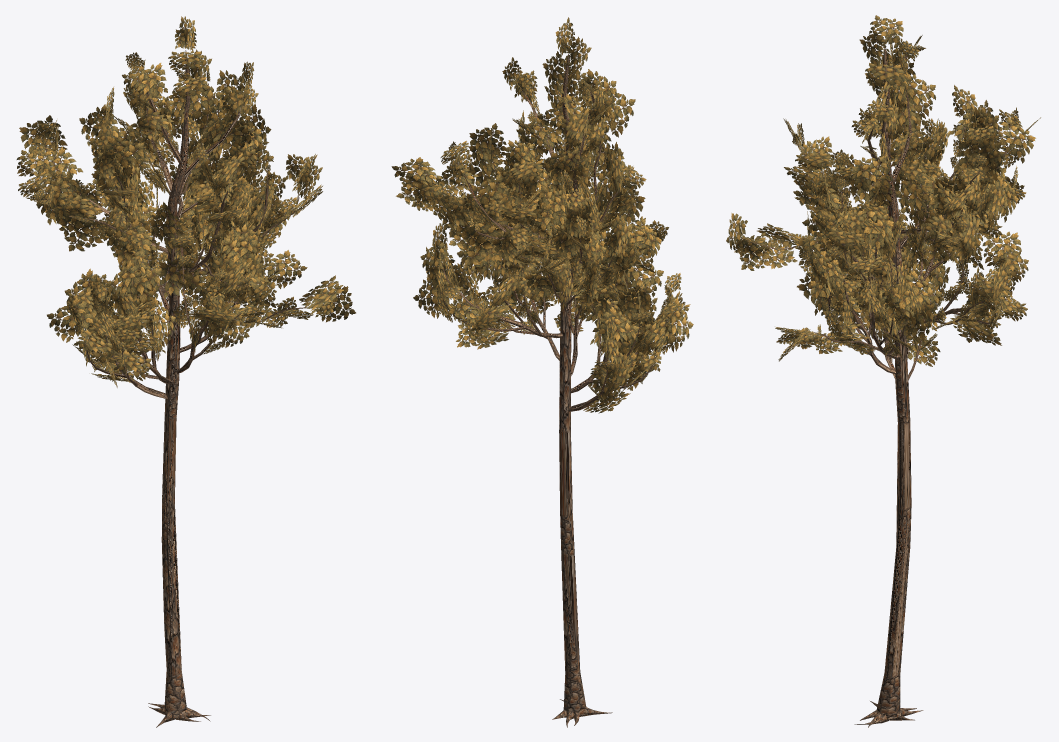
The model's file is tree2.glb.
3 renders of one model, left to right at view 1: azimuth 30°, elevation 25°; view 2: azimuth 150°, elevation 25°; view 3: azimuth 270°, elevation 25°, orthographic. The views are drawn at different scales.
Parts seen in each view (by area): view 1: Leaves_LOD0.001 (×2), Branches_LOD0.001 (×2); view 2: Leaves_LOD0.001 (×2), Branches_LOD0.001 (×2); view 3: Leaves_LOD0.001 (×2), Branches_LOD0.001 (×2).
Part boxes in pixels (x1=…): Leaves_LOD0.001 (×2): x1=16, y1=16, x2=355, y2=387; Branches_LOD0.001 (×2): x1=38, y1=50, x2=307, y2=727; Leaves_LOD0.001 (×2): x1=391, y1=17, x2=693, y2=413; Branches_LOD0.001 (×2): x1=440, y1=53, x2=666, y2=727; Leaves_LOD0.001 (×2): x1=726, y1=15, x2=1040, y2=366; Branches_LOD0.001 (×2): x1=747, y1=46, x2=1015, y2=727.
Size of the model in its own units: 6.85 by 16.99 by 6.92.
Materials: 4 (4 with a texture image).
